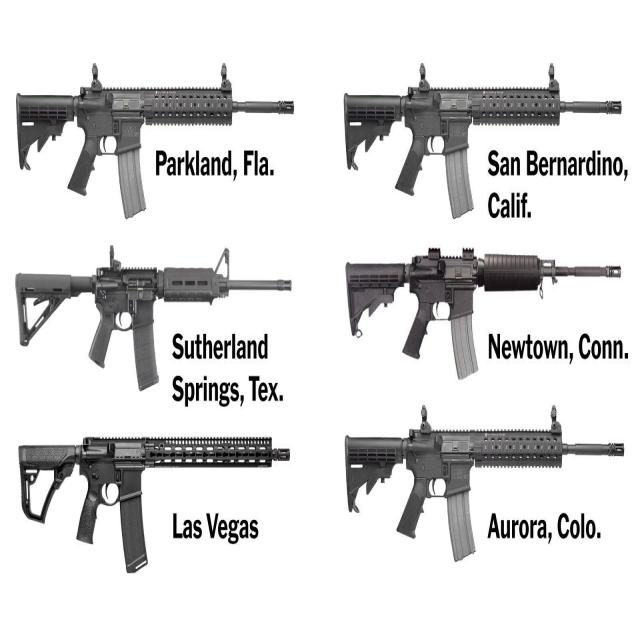weapon: (339, 55, 630, 226), (340, 402, 628, 568), (11, 58, 297, 221), (14, 424, 297, 583), (10, 249, 298, 401), (343, 239, 624, 392)
